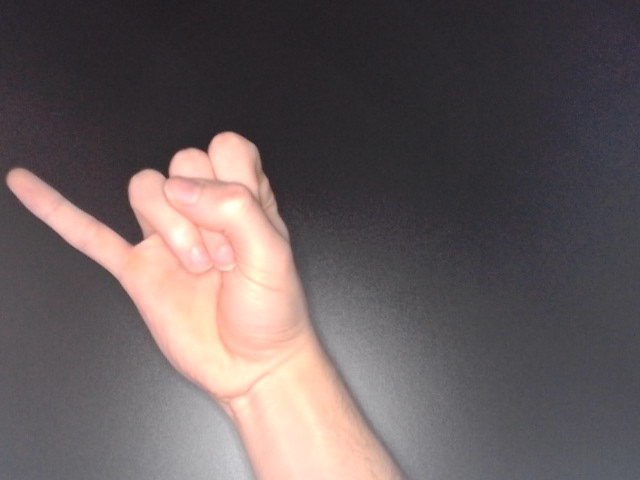j: (3, 127, 328, 426)
